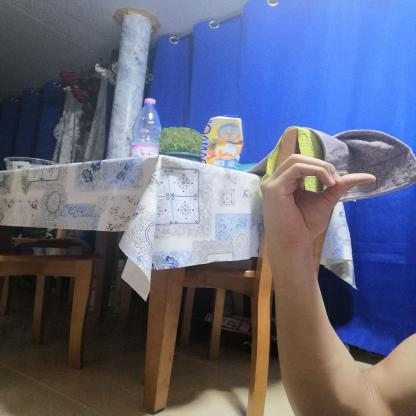WAW: (247, 144, 391, 264)
